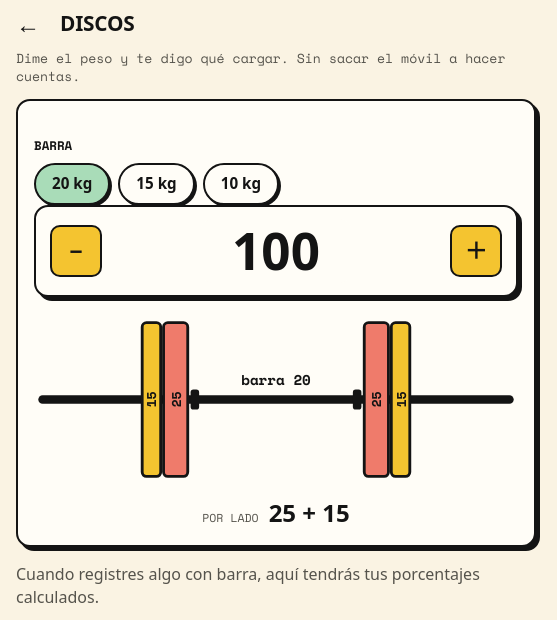
dice qué discos cargar por lado y cambia con la barra
This screenshot has width=557, height=620.
Expected: the text "25 + 15" is shown, [269, 496, 350, 530]
Click the button "15 kg" at (157, 184), box [118, 163, 195, 205]
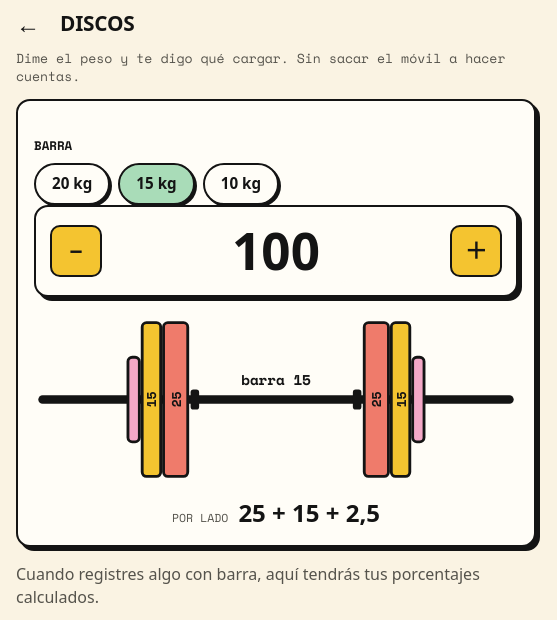
Expected: the text "25 + 15 + 2,5" is shown, [238, 496, 380, 530]
